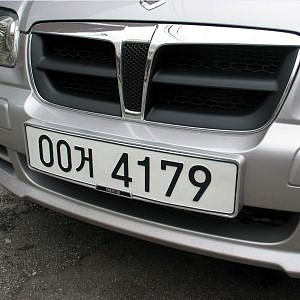plate: (25, 123, 218, 214)
